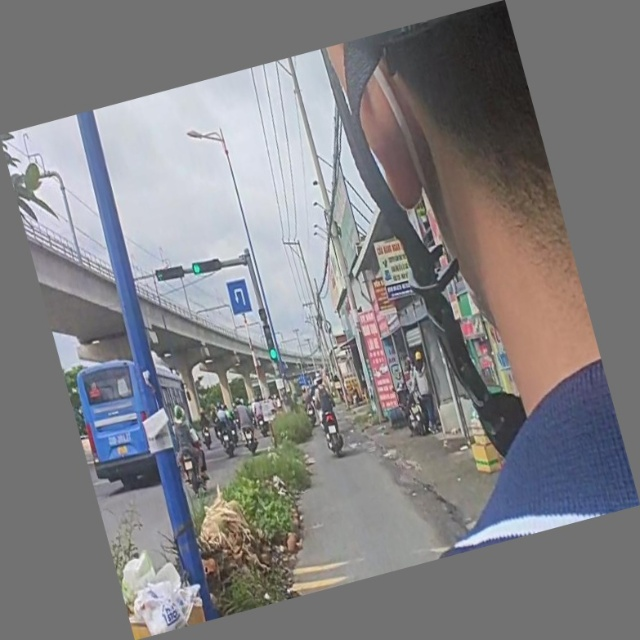I.409: (225, 276, 256, 318)
